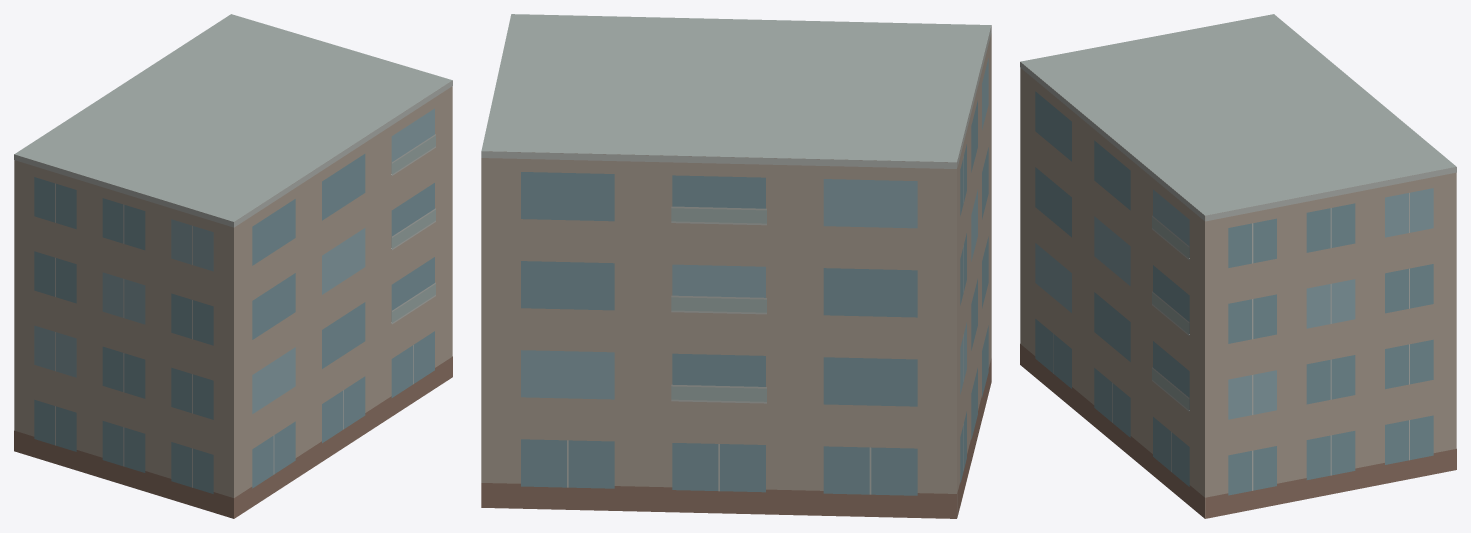
Rendered from survey-upis-32987434.glb.
3 renders of one model, left to right at view 1: azimuth 30°, elevation 25°; view 2: azimuth 150°, elevation 25°; view 3: azimuth 270°, elevation 25°, orthographic. The views are drawn at different scales.
Visible parts, largest first — view 1: survey-upis-32987434.tmp; view 2: survey-upis-32987434.tmp; view 3: survey-upis-32987434.tmp.
Part boxes in pixels (x1,y1,x2,y2): survey-upis-32987434.tmp: (14, 14, 452, 518); survey-upis-32987434.tmp: (481, 14, 991, 518); survey-upis-32987434.tmp: (1020, 14, 1456, 518).
Size of the model in its own units: 18.28 by 12.8 by 16.72.
